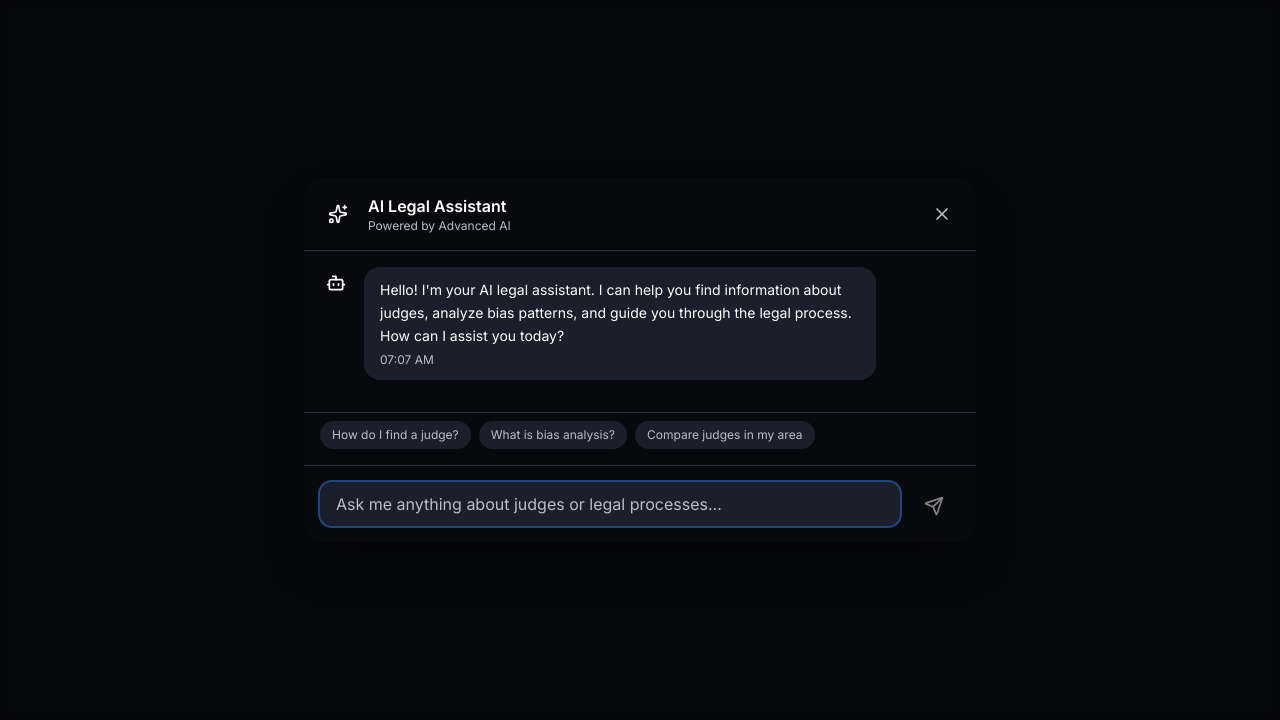
Scenario: Chat Accessibility - WCAG 2.2 AA › AIChatModal › shows loading state during message submission
In the text box with placeholder "Ask me anything about judges or legal processes...": (610, 504) [320,482,900,526], type "Test query"
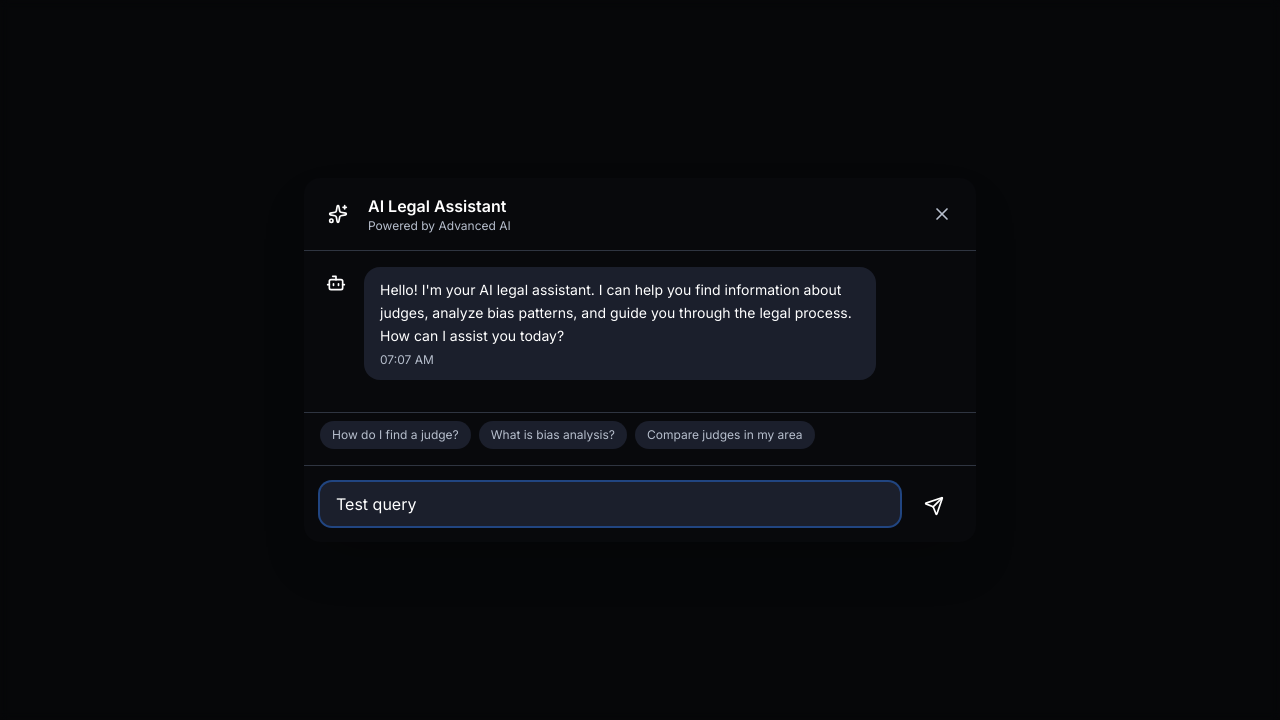
Click the button named "send message": (934, 506) [908,486,960,526]
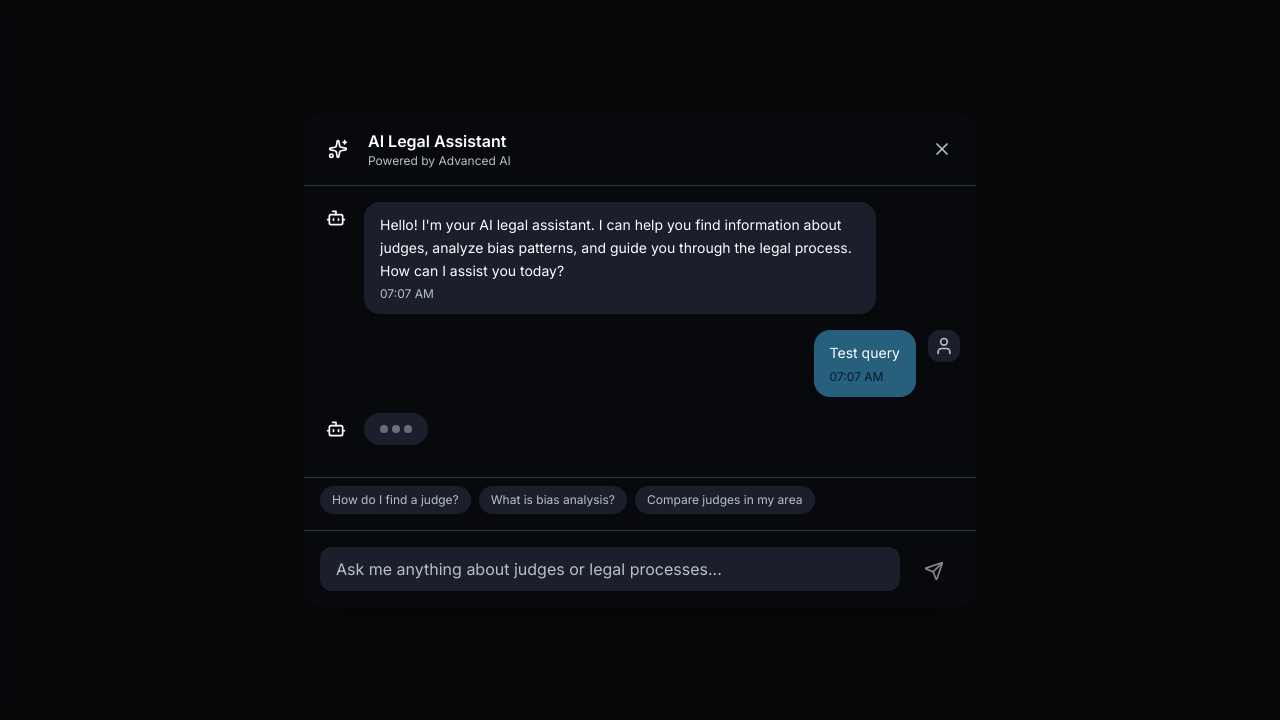
Result: the 1st element with class "animate-bounce" is shown at [380,425,388,433]
